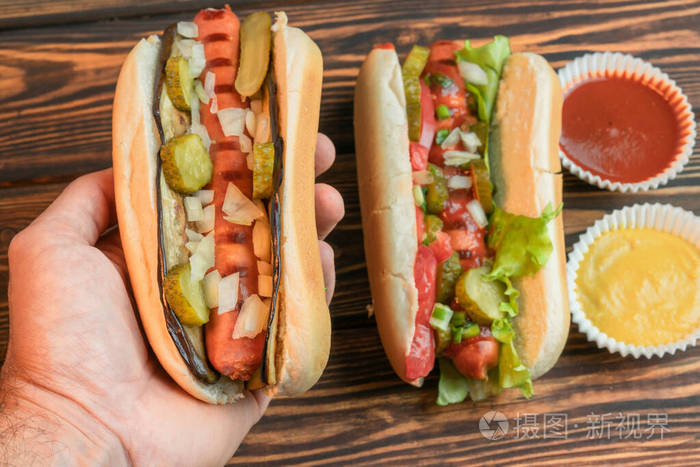no-phone: (5, 50, 347, 459)
